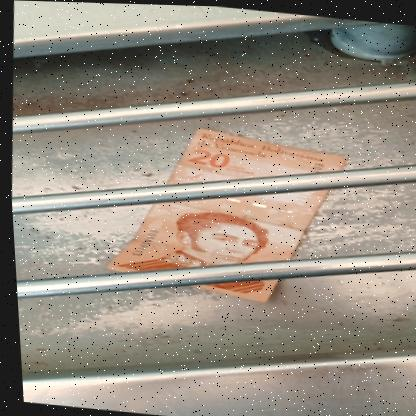twenty-front-vef: (95, 117, 355, 309)
